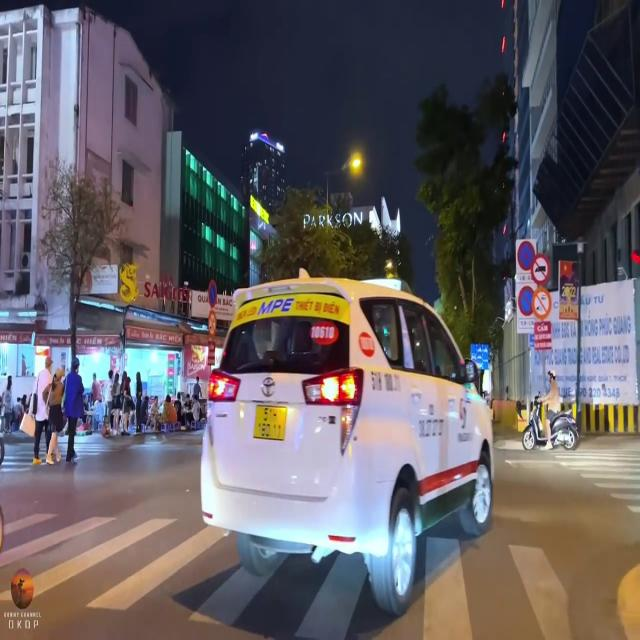bien_vang: (252, 400, 288, 444)
